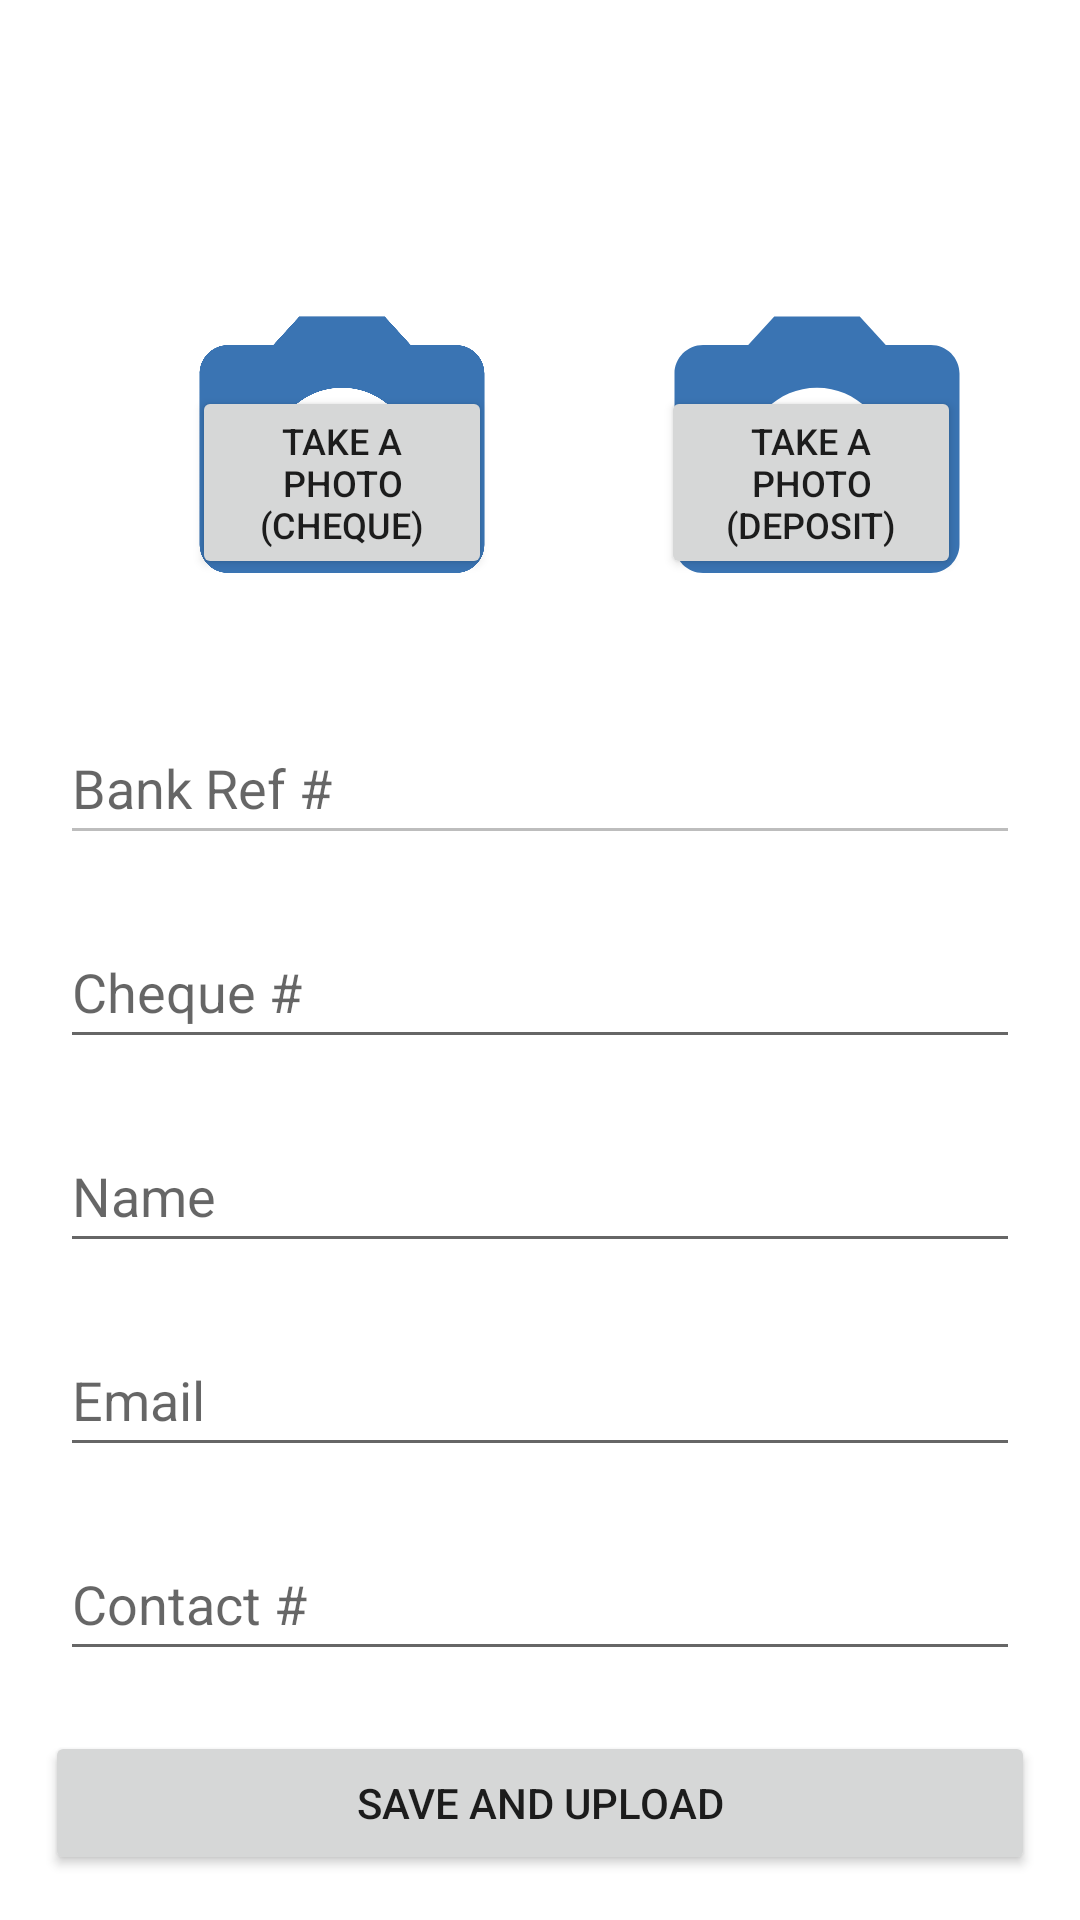

Locate icon controls on the screen. Image size 1080px×1920px, boxes as (x1, y1, x2, y2).
photo camera: (199, 316, 485, 573), (673, 316, 960, 573)
